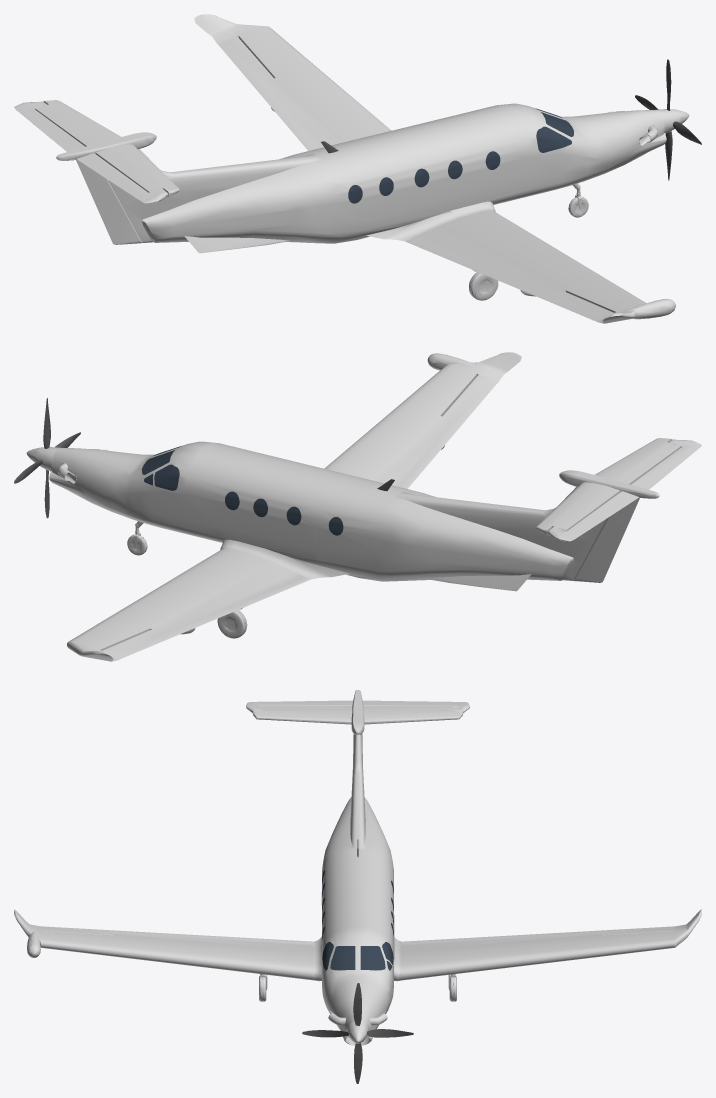
3 renders of one model, top to bottom at view 1: azimuth 30°, elevation 25°; view 2: azimuth 150°, elevation 25°; view 3: azimuth 270°, elevation 25°, orthographic. The views are drawn at different scales.
Parts seen in each view (by area): view 1: body, glass, spin; view 2: body, glass, spin; view 3: body, glass, spin.
Part boxes in pixels (bbox=[...]): body: bbox=[14, 14, 689, 323]; glass: bbox=[348, 108, 573, 203]; spin: bbox=[635, 59, 701, 180]; body: bbox=[26, 352, 701, 661]; glass: bbox=[141, 446, 343, 535]; spin: bbox=[14, 398, 80, 518]; body: bbox=[14, 690, 701, 1045]; glass: bbox=[322, 870, 393, 970]; spin: bbox=[302, 983, 413, 1083].
Size of the model in its own units: 1.95 by 0.5683 by 2.2.
